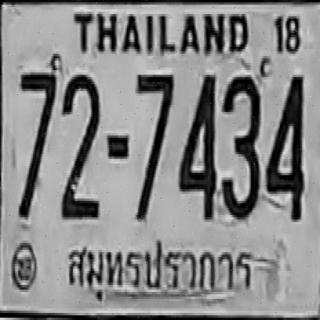N02: (60, 72, 100, 217)
N03: (222, 75, 260, 220)
N04: (178, 72, 217, 217), (266, 72, 304, 220)
N07: (135, 72, 174, 220), (18, 70, 56, 220)
P57: (65, 232, 260, 308)
